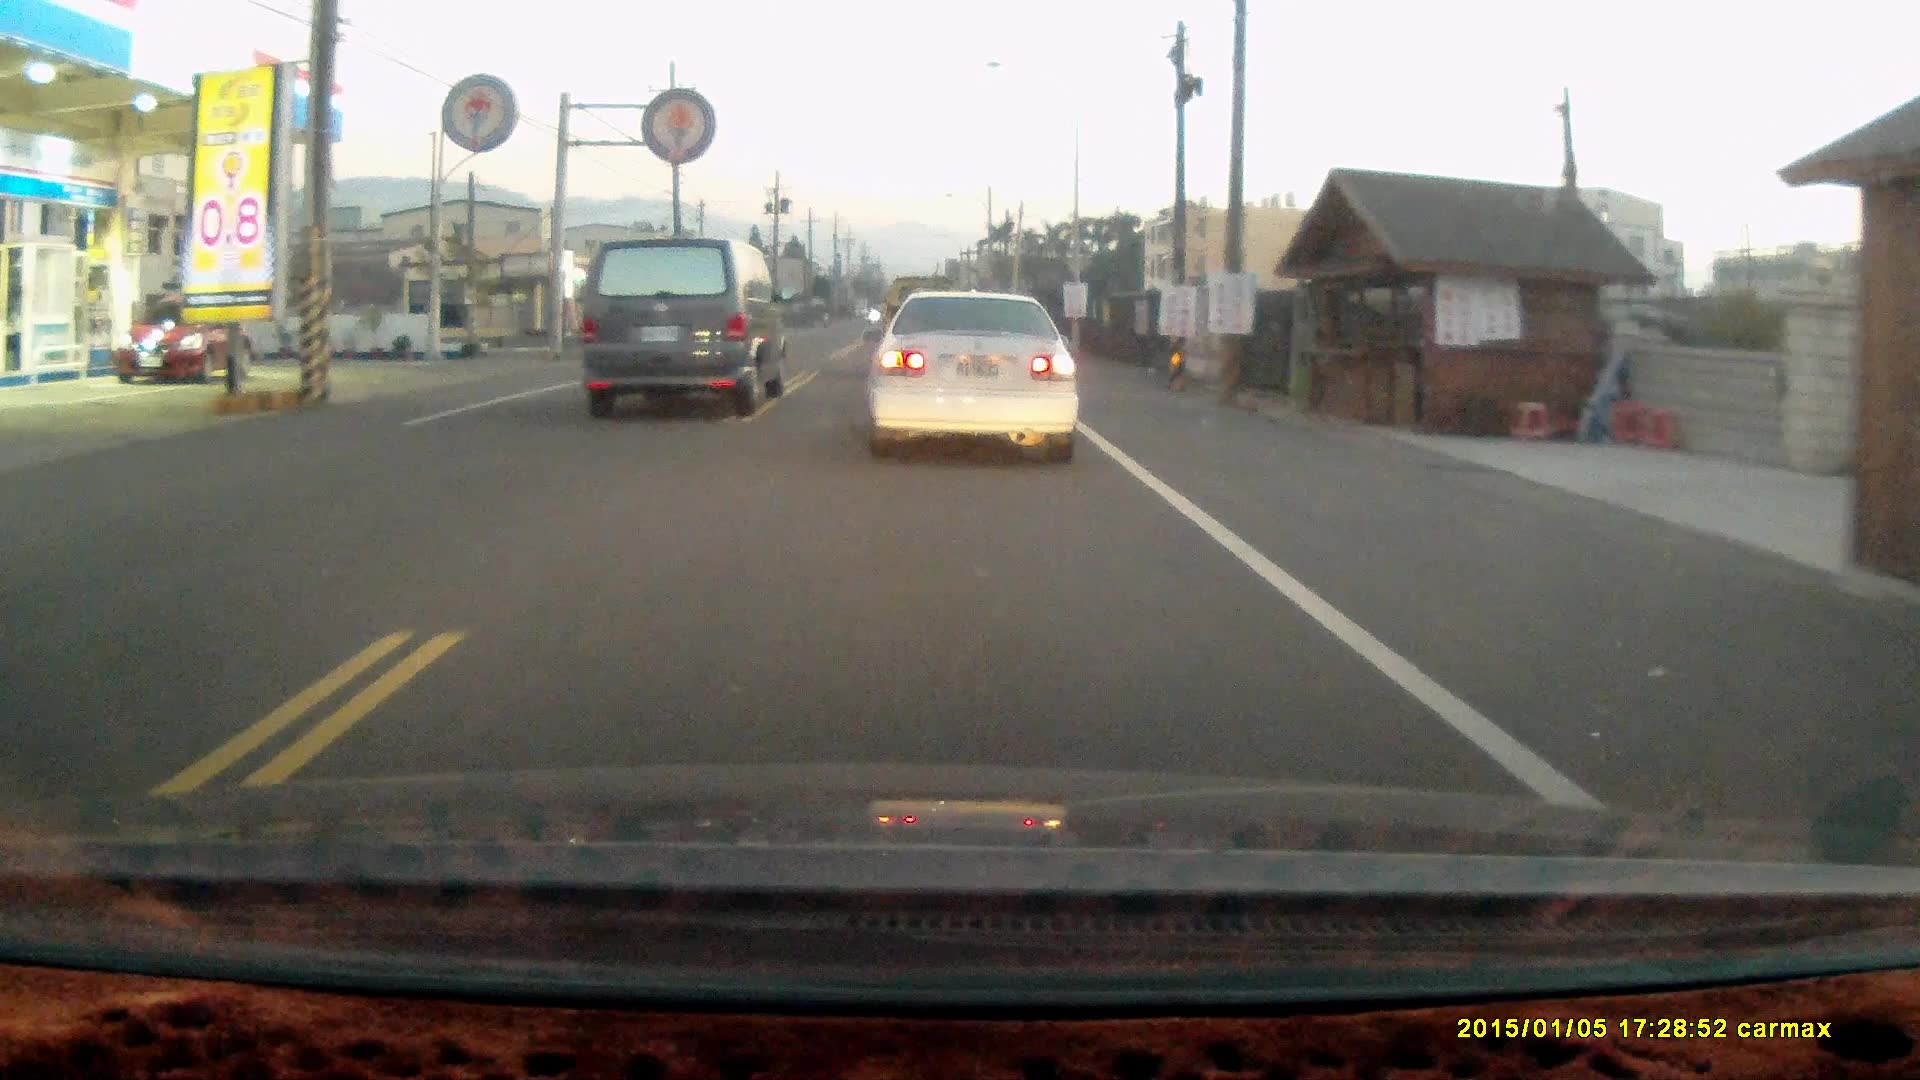vehicle: (862, 284, 1091, 465), (579, 236, 787, 411), (117, 293, 255, 388)
